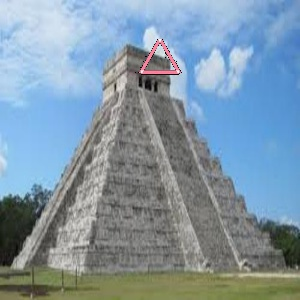triangle: (135, 36, 185, 76)
